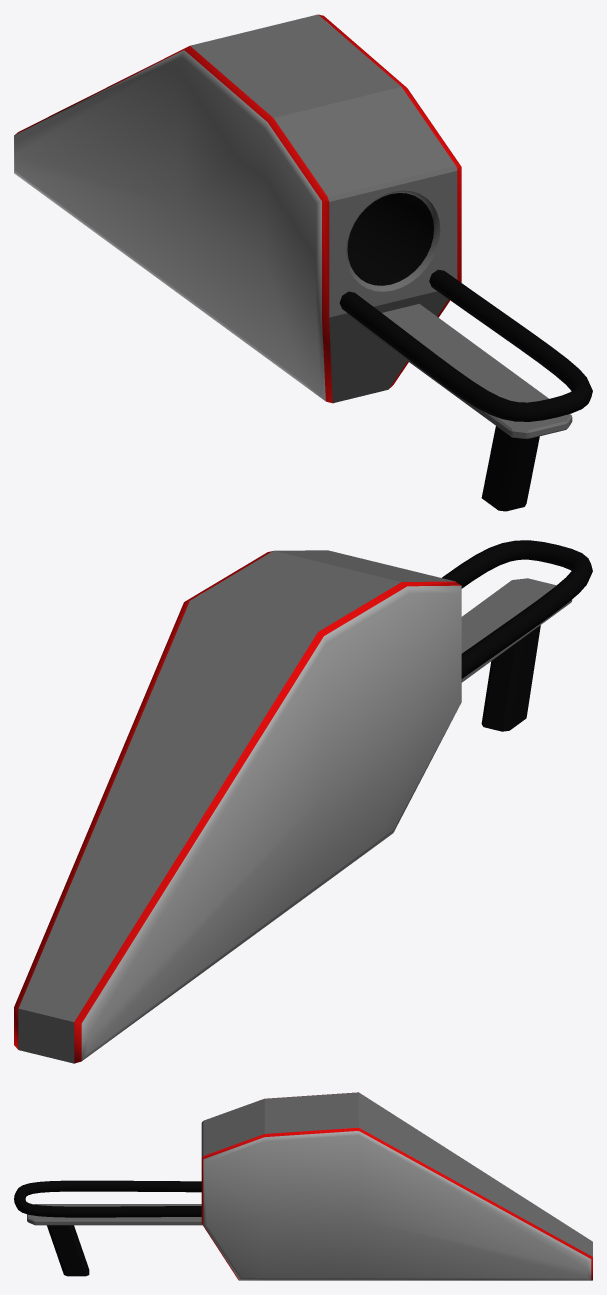
File: ballreturn.glb
3 renders of one model, top to bottom at view 1: azimuth 30°, elevation 25°; view 2: azimuth 150°, elevation 25°; view 3: azimuth 270°, elevation 25°, orthographic. The views are drawn at different scales.
Parts seen in each view (by area): view 1: Machine, Gate, Rest, Stand; view 2: Machine, Gate, Stand, Rest; view 3: Machine, Gate, Rest, Stand.
Part boxes in pixels (<box>): Machine: <box>14,14,461,403</box>; Gate: <box>339,269,592,421</box>; Rest: <box>357,304,572,439</box>; Stand: <box>481,426,539,511</box>; Machine: <box>14,550,461,1063</box>; Gate: <box>442,540,592,678</box>; Stand: <box>481,625,540,731</box>; Rest: <box>461,578,572,682</box>; Machine: <box>201,1092,592,1280</box>; Gate: <box>14,1180,201,1217</box>; Rest: <box>27,1204,202,1225</box>; Stand: <box>47,1225,89,1276</box>.
Bounding box in the file's own units: 0.4039 × 0.769 × 2.48.
1 material, 1 textured.
